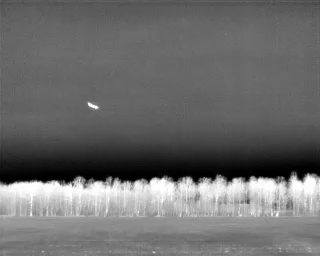DRONE: (84, 98, 103, 114)
